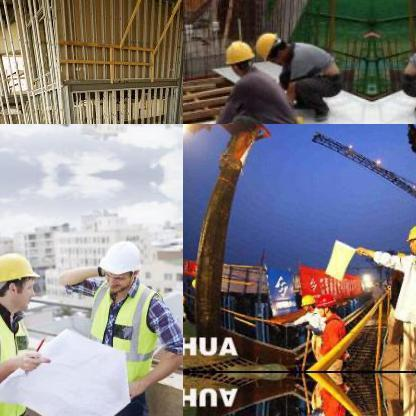Helmet: (94, 234, 146, 294), (0, 247, 44, 308), (251, 29, 287, 66), (223, 37, 255, 74), (312, 289, 338, 318), (297, 292, 316, 314), (405, 218, 415, 256)
